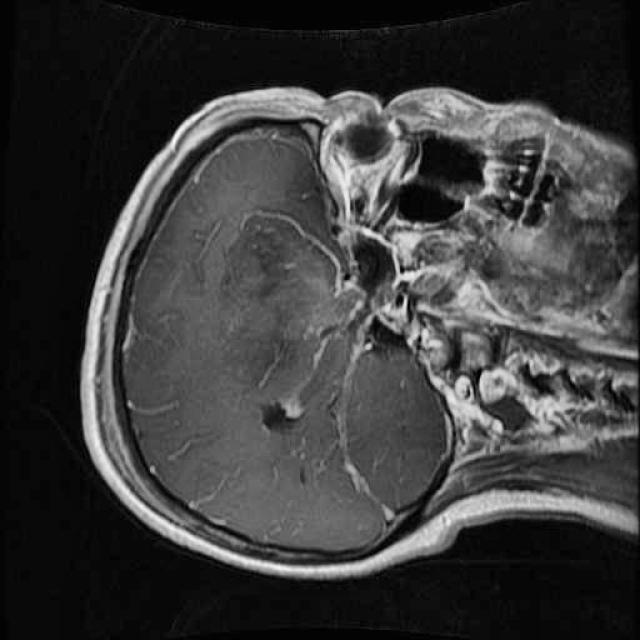Non-Tumor: (196, 195, 382, 435)
